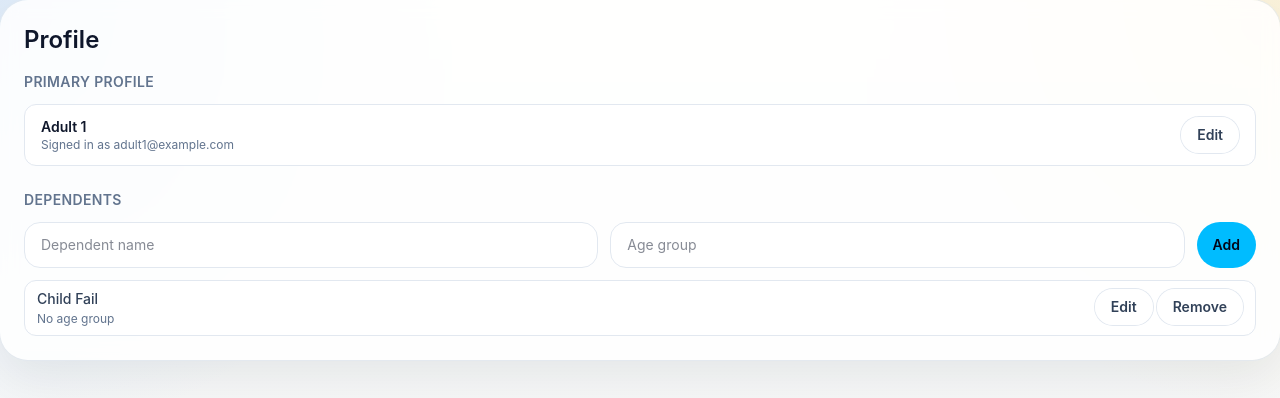
Scenario: ProfilePage › shows api detail when deleting dependent fails
Expected: the text "Child Fail" is shown, [37,290,98,307]
Click the button "Remove".
click(1200, 307)  # box [1157,289,1243,325]
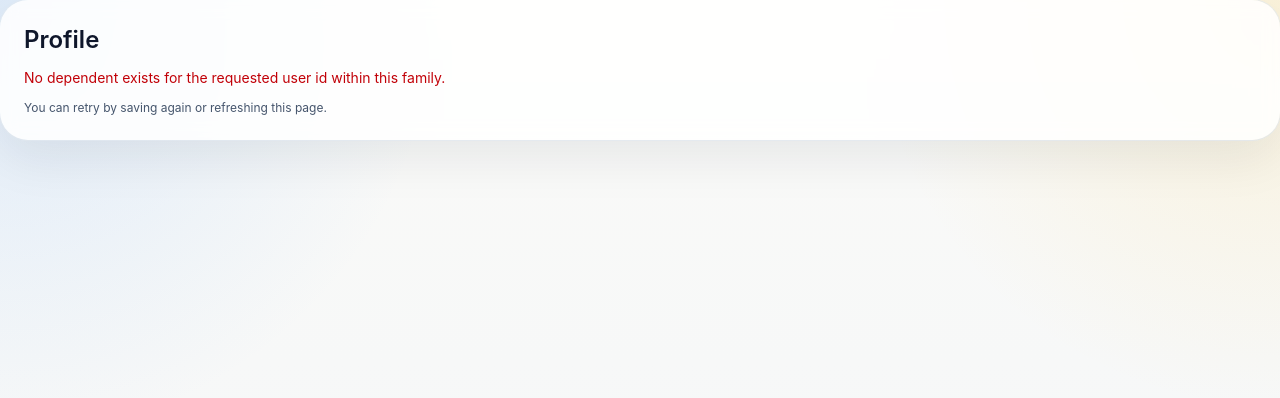
Result: the text "No dependent exists for the requested user id within this family." is shown at [24,69,445,86]
